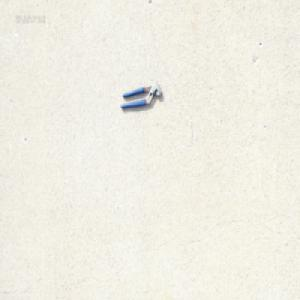Pliers: (119, 81, 162, 109)
